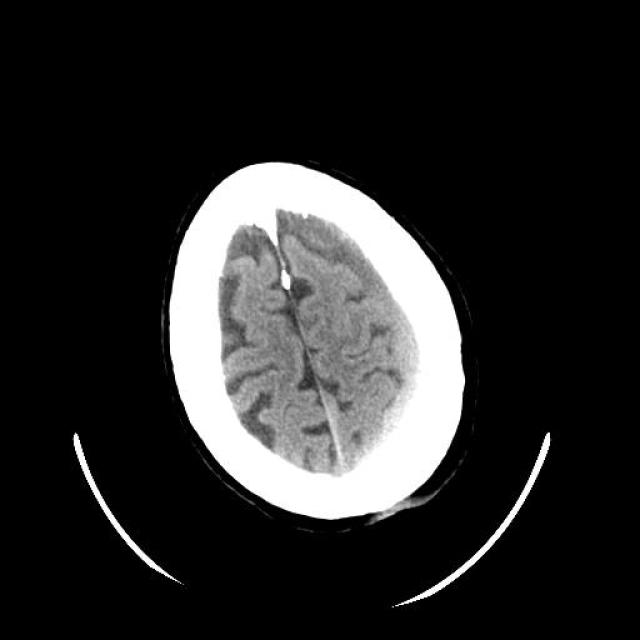Subdural: (365, 285, 435, 473)
